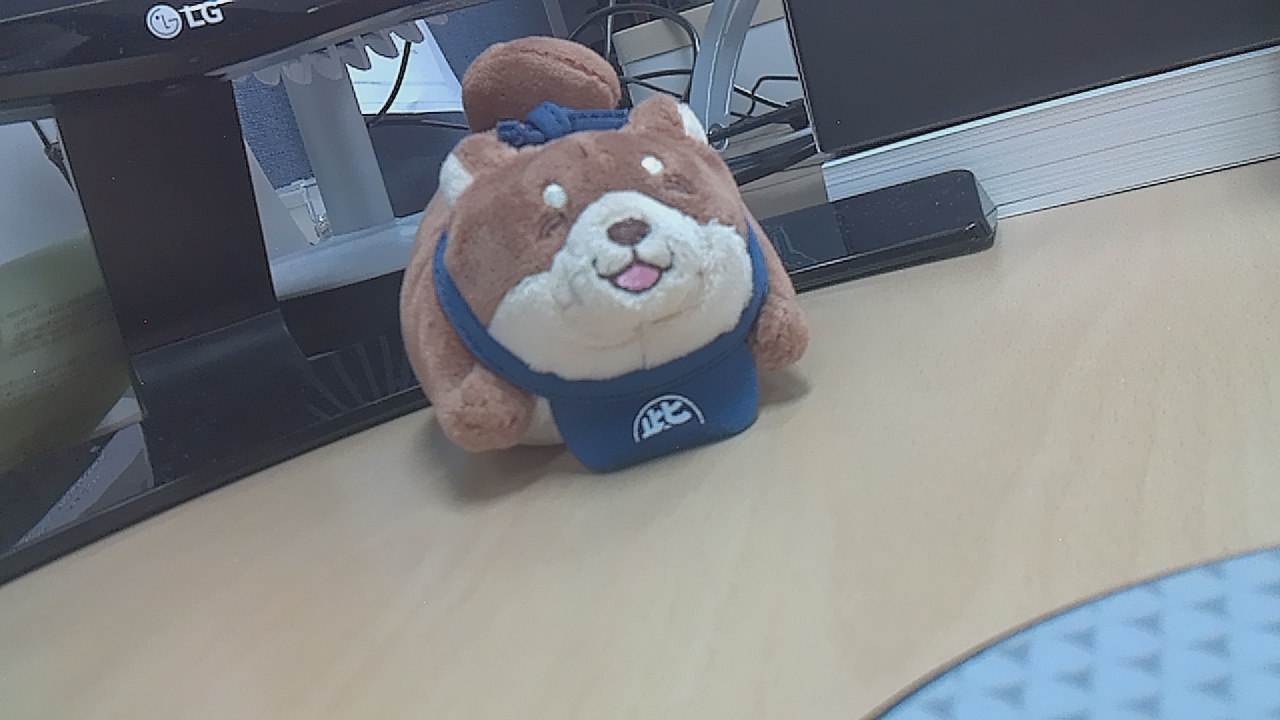cuteDog: (398, 57, 822, 513)
